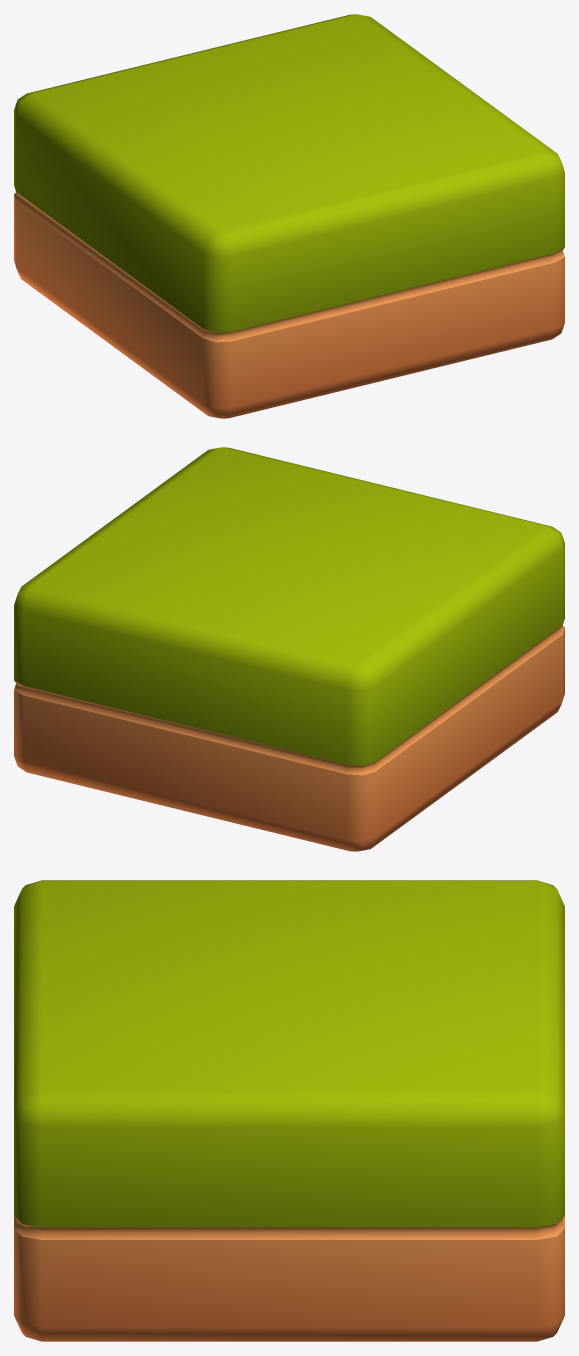
Rendered from 3D_Tile_Ground_01A.fbx.
3 renders of one model, top to bottom at view 1: azimuth 30°, elevation 25°; view 2: azimuth 150°, elevation 25°; view 3: azimuth 270°, elevation 25°, orthographic. The views are drawn at different scales.
Parts seen in each view (by area): view 1: 3D_Tile_Ground_01A; view 2: 3D_Tile_Ground_01A; view 3: 3D_Tile_Ground_01A.
Boxes of the visible parts, left/top/right/bottom form: 3D_Tile_Ground_01A: left=14, top=14, right=564, bottom=418; 3D_Tile_Ground_01A: left=14, top=447, right=564, bottom=851; 3D_Tile_Ground_01A: left=14, top=880, right=564, bottom=1341.
Size of the model in its own units: 200 by 100 by 200.
